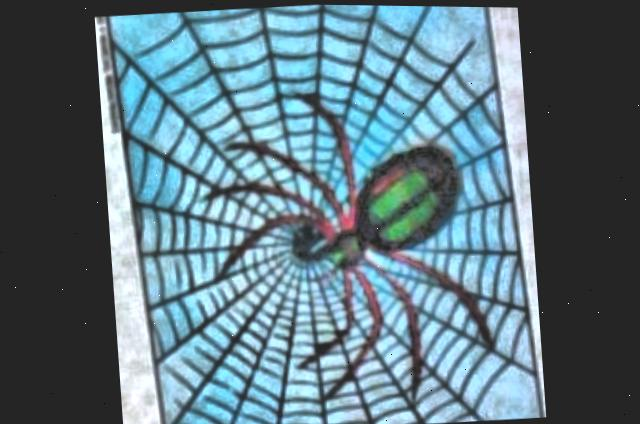La Arana: (107, 4, 540, 424)
